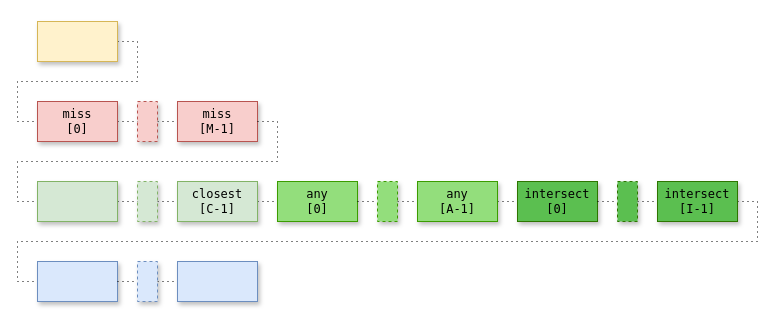
This 776x326 diagram has some shape labels left out. The centre of each missing label's shape, as x and y in pixels:
"callable [0]" belongs at (x=78, y=282).
"callable [C-1]" belongs at (x=218, y=282).
"closest [0]" belongs at (x=78, y=202).
"raygen" belongs at (x=78, y=42).
